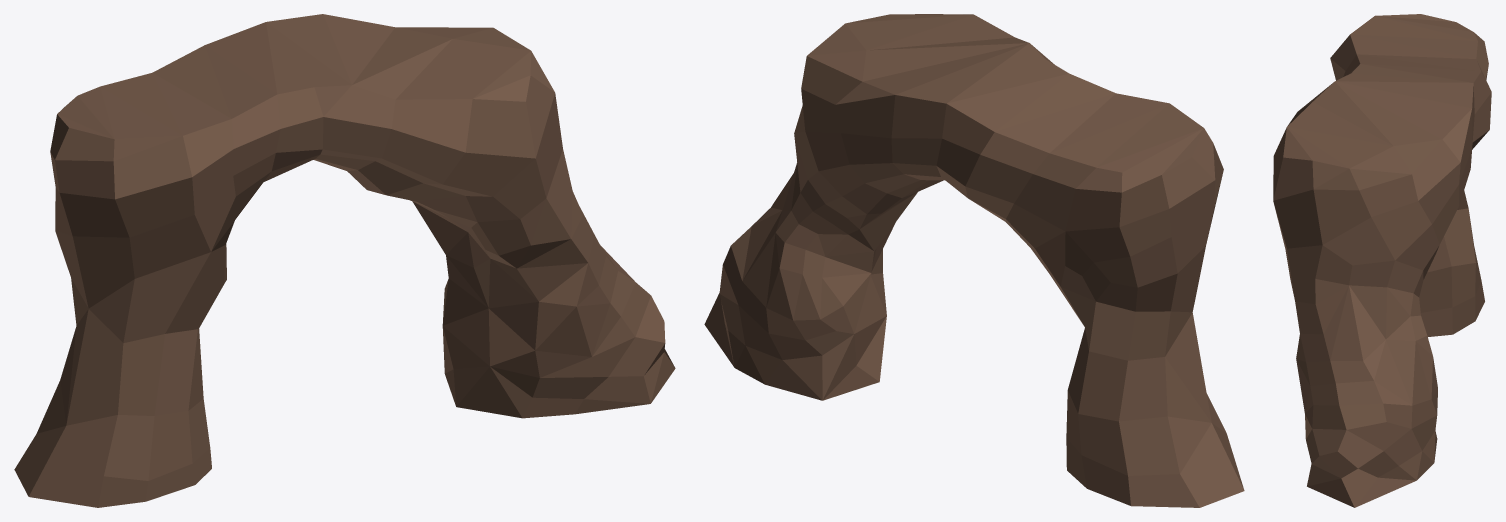
The model's file is Pillar-C08.fbx.
3 views of the same model, side by side, from view 1: azimuth 30°, elevation 25°; view 2: azimuth 150°, elevation 25°; view 3: azimuth 270°, elevation 25° (orthographic). The views are drawn at different scales.
Parts seen in each view (by area): view 1: Pillar-C08; view 2: Pillar-C08; view 3: Pillar-C08.
Part boxes in pixels (bbox=[...]): Pillar-C08: bbox=[14, 14, 675, 507]; Pillar-C08: bbox=[704, 14, 1244, 507]; Pillar-C08: bbox=[1273, 14, 1491, 507].
Size of the model in its own units: 487 by 190 by 287.
